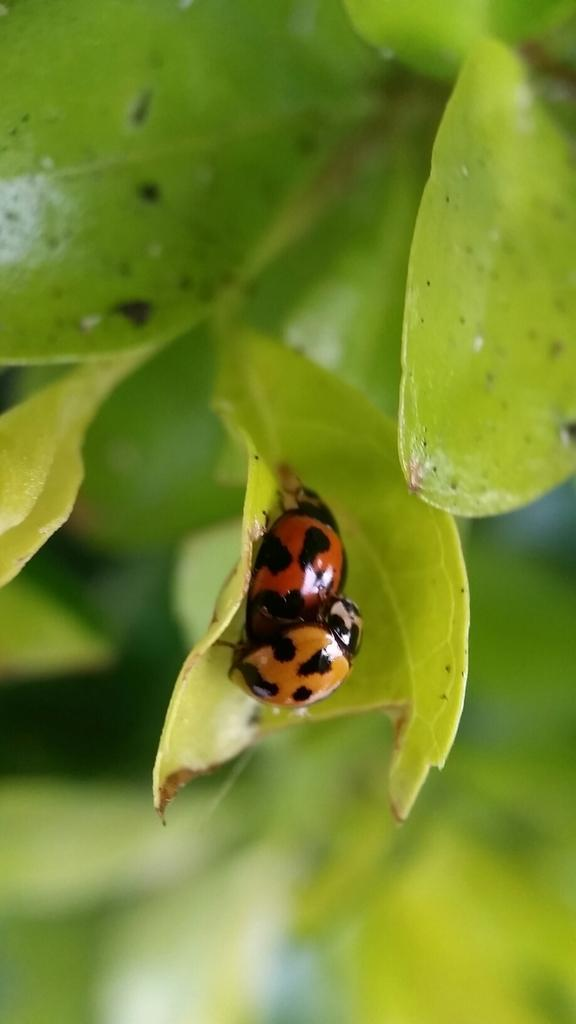ladybug: (211, 585, 368, 711), (245, 469, 351, 650)
